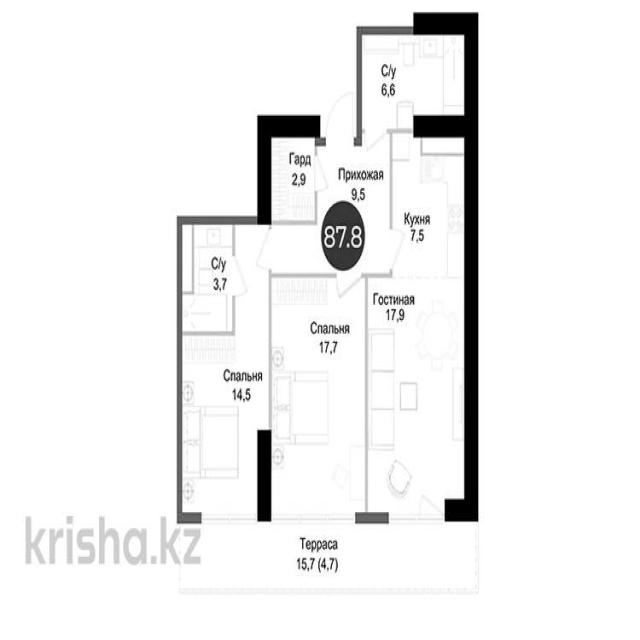balcony: (172, 520, 484, 598)
bathroom: (358, 30, 463, 126), (181, 225, 232, 330)
hallway: (320, 143, 389, 269)
living_room: (272, 275, 364, 519), (182, 336, 267, 520)
other: (270, 136, 316, 221)
studio: (365, 132, 468, 517)
